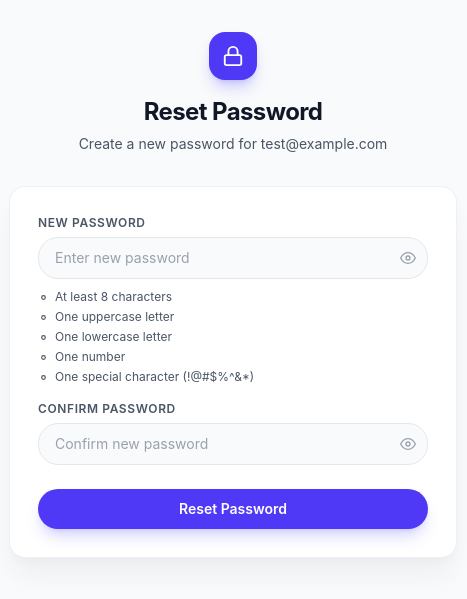
Test: ResetPasswordPage › Password Strength Indicator › should show weak strength for simple password
Type "simple" into the password field labelled "New Password". click: (233, 258)
box: x1=38 y1=237 x2=428 y2=279
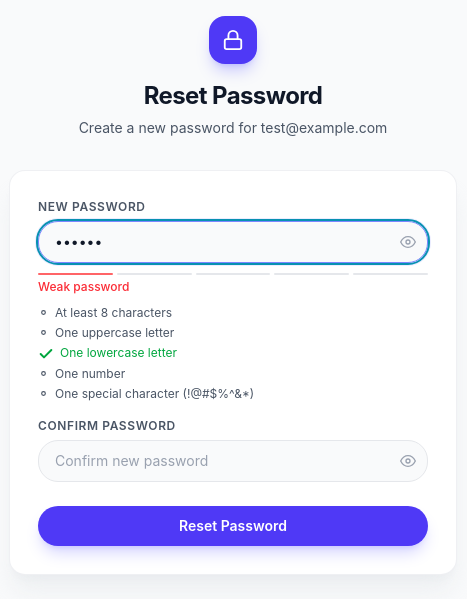
Check: the text "Weak password" is shown, box x1=38 y1=278 x2=129 y2=294
